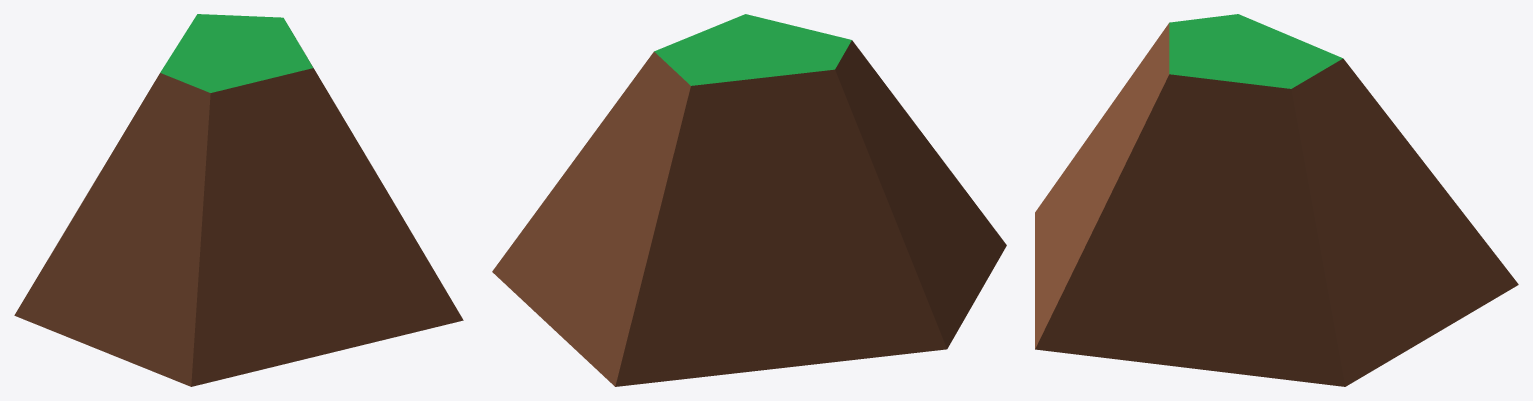
The model's file is Rock1_2.obj.
3 renders of one model, left to right at view 1: azimuth 30°, elevation 25°; view 2: azimuth 150°, elevation 25°; view 3: azimuth 270°, elevation 25°, orthographic. The views are drawn at different scales.
Visible parts, largest first — view 1: rock_small1.001; view 2: rock_small1.001; view 3: rock_small1.001.
Part boxes in pixels (<box>): rock_small1.001: <box>14,14,463,386</box>; rock_small1.001: <box>492,14,1006,386</box>; rock_small1.001: <box>1035,14,1518,386</box>.
Size of the model in its own units: 18.93 by 10.04 by 18.93.
1 material, 1 textured.
